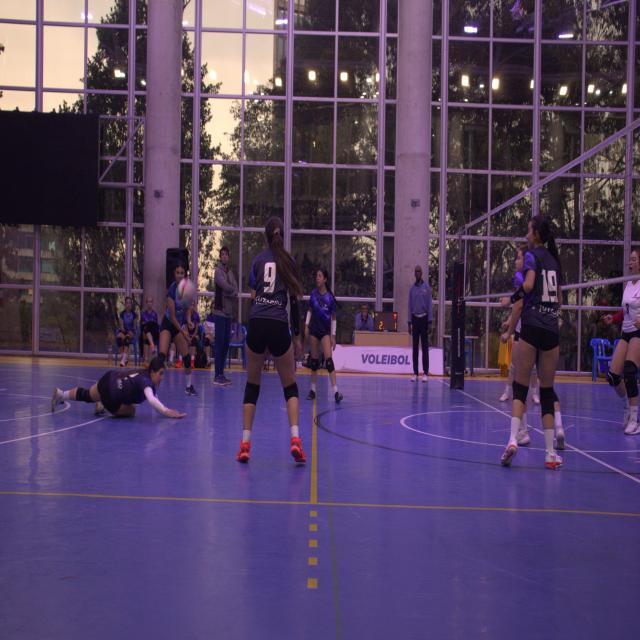volleyball: (177, 276, 195, 309)
